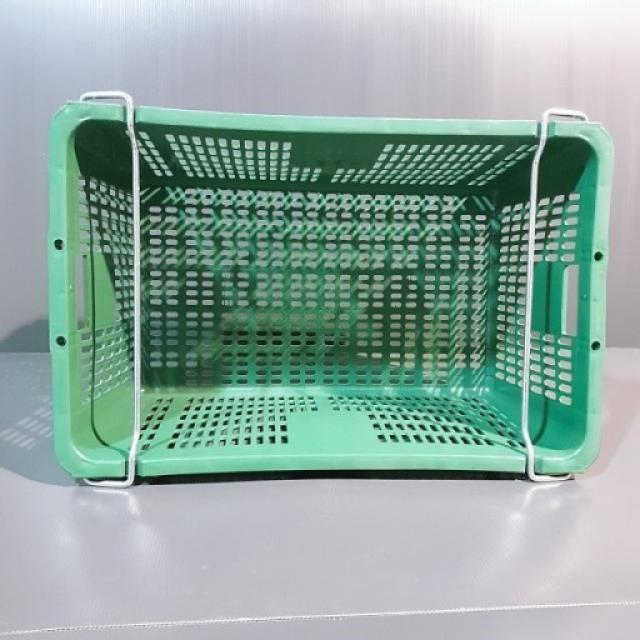basket: (33, 94, 617, 508)
